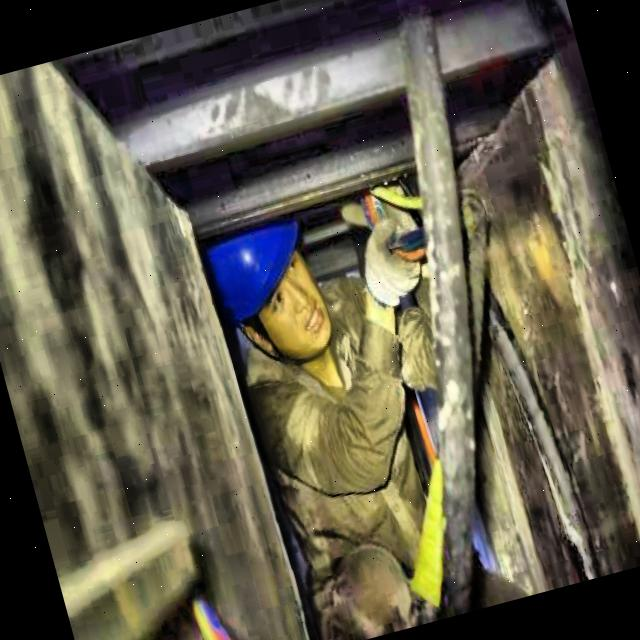helmet: (191, 190, 353, 404)
